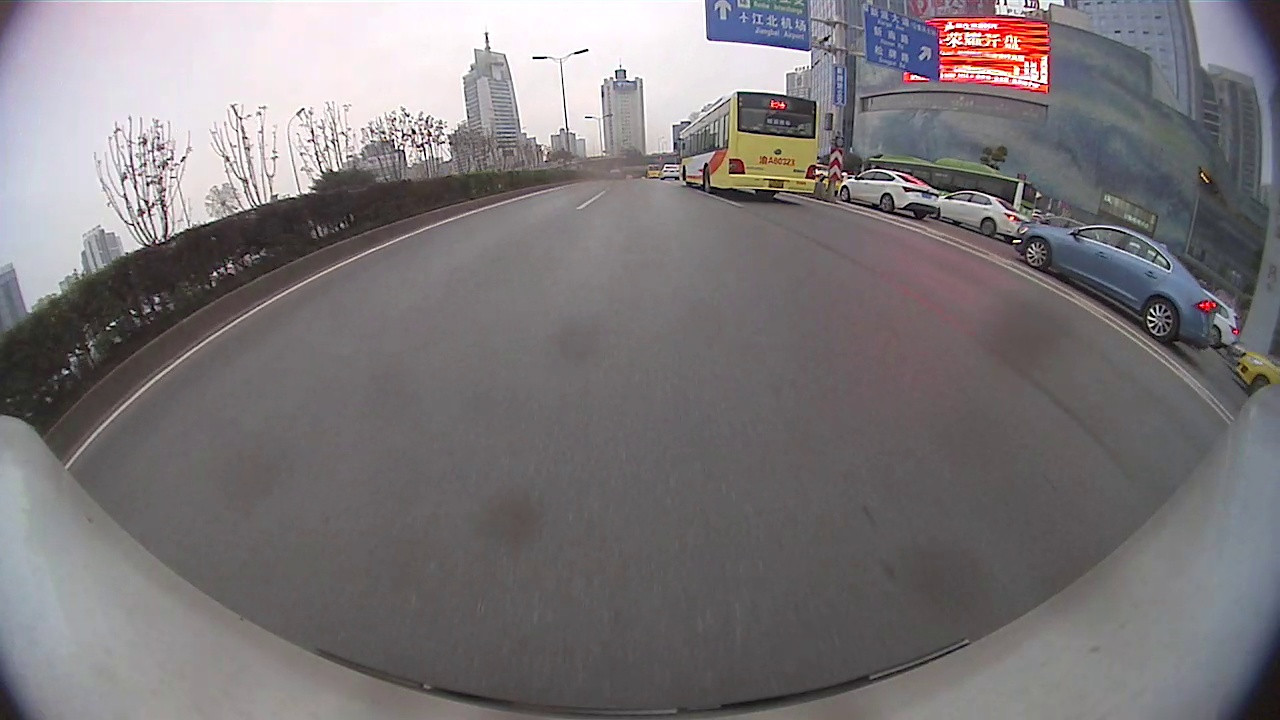bus: (671, 89, 823, 200)
car: (1011, 219, 1218, 352), (835, 166, 943, 223), (926, 188, 1032, 245), (1193, 281, 1241, 353), (1230, 345, 1279, 400)
front: (1023, 241, 1054, 272), (839, 189, 853, 204)
rear: (1144, 296, 1180, 338), (1209, 326, 1222, 349), (880, 195, 896, 213), (982, 221, 997, 239)
